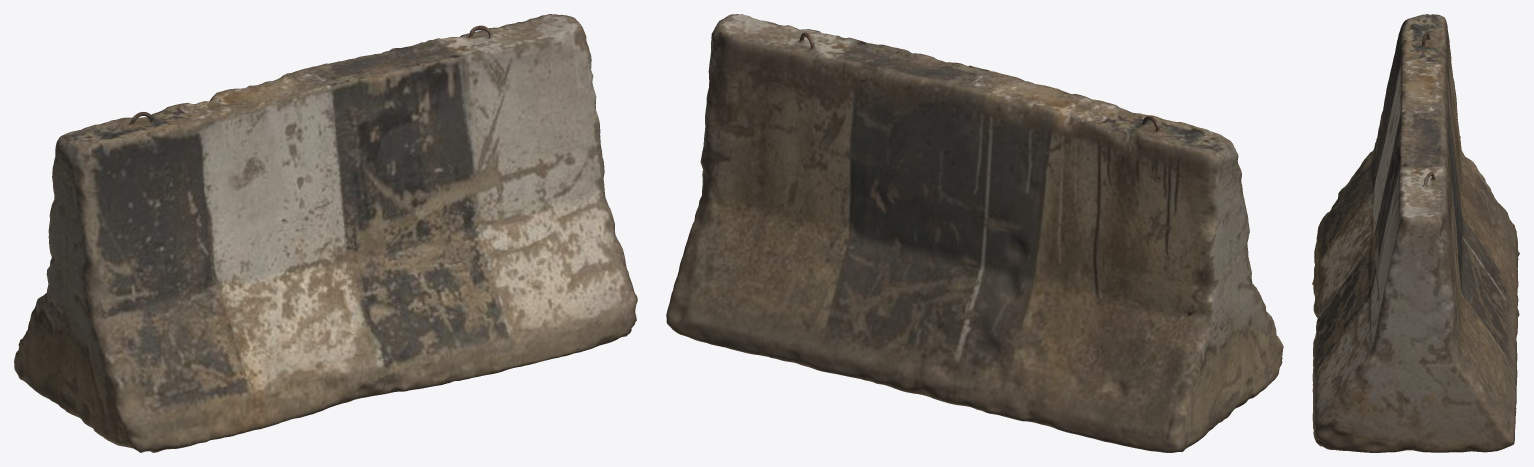
Rendered from props_concrete_road_barrier.cb24abf3.glb.
3 views of the same model, side by side, from view 1: azimuth 30°, elevation 25°; view 2: azimuth 150°, elevation 25°; view 3: azimuth 270°, elevation 25° (orthographic). The views are drawn at different scales.
Parts seen in each view (by area): view 1: concrete_road_barrier; view 2: concrete_road_barrier; view 3: concrete_road_barrier.
Boxes of the visible parts, bbox=[...] form: concrete_road_barrier: bbox=[14, 14, 637, 452]; concrete_road_barrier: bbox=[666, 14, 1283, 452]; concrete_road_barrier: bbox=[1312, 14, 1519, 452].
Bounding box in the file's own units: 1.55 × 0.831 × 0.6388.
1 material, 1 textured.
